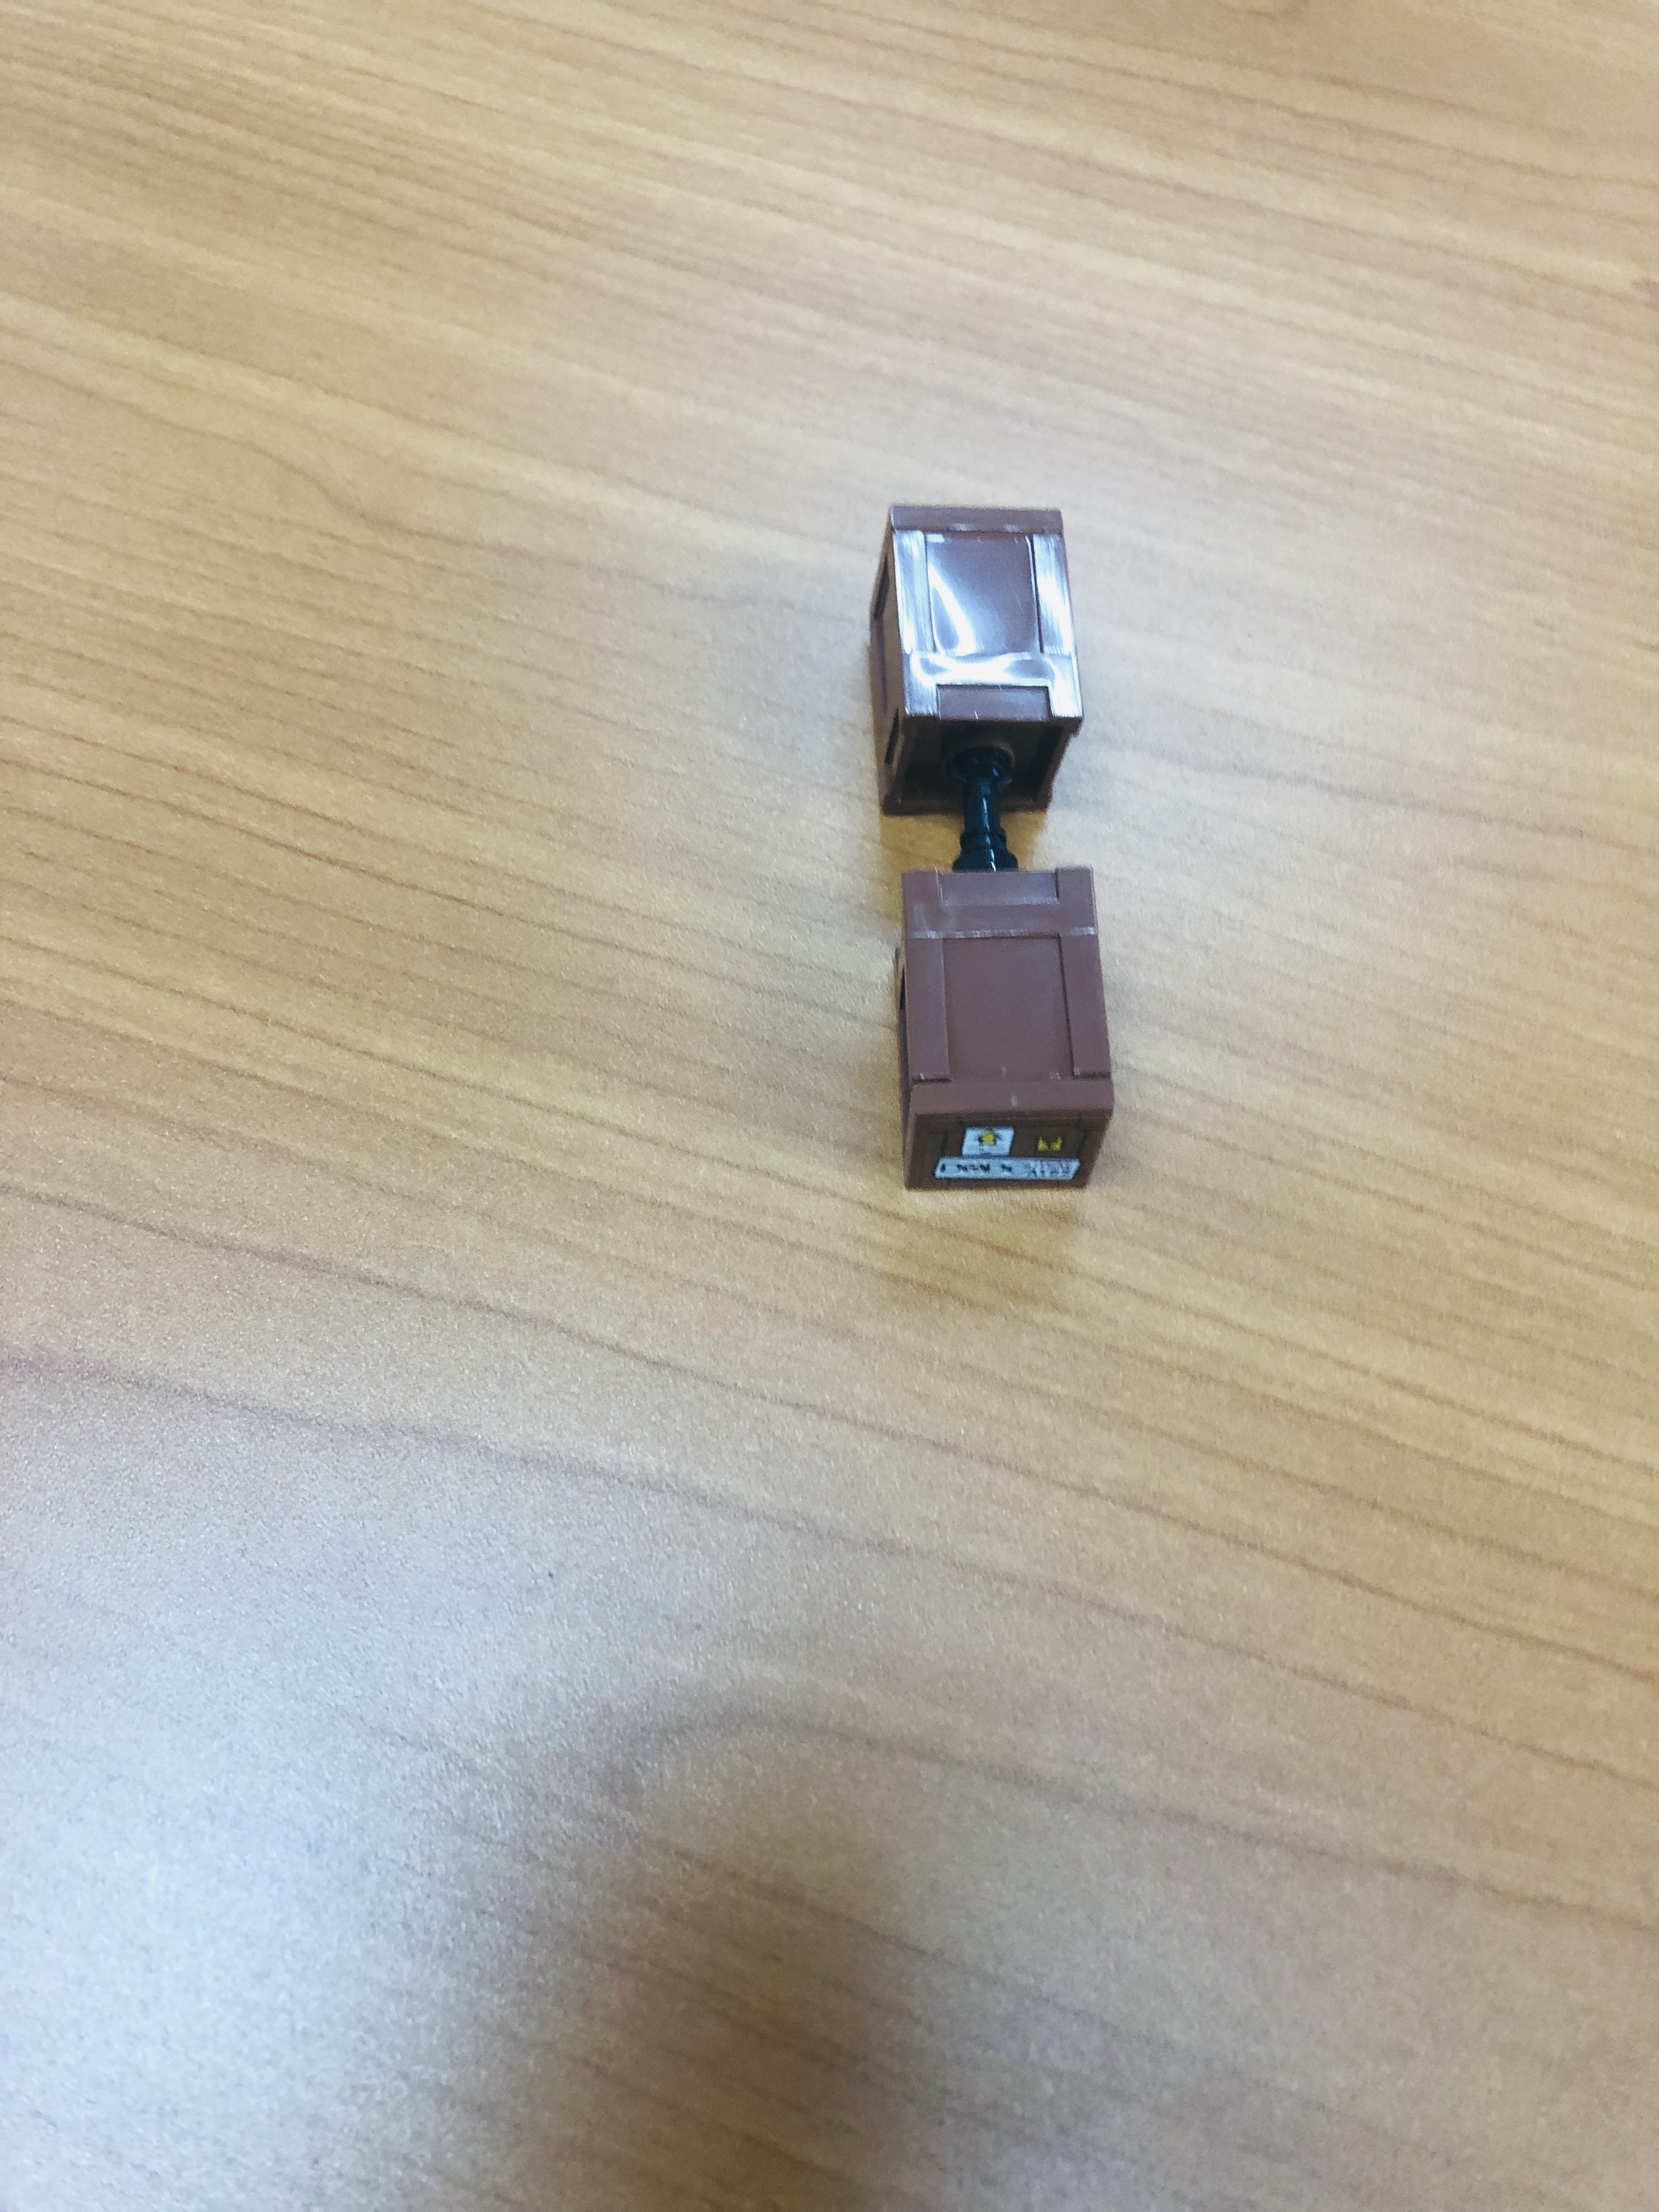box: (857, 496, 1091, 821), (892, 862, 1111, 1194)
